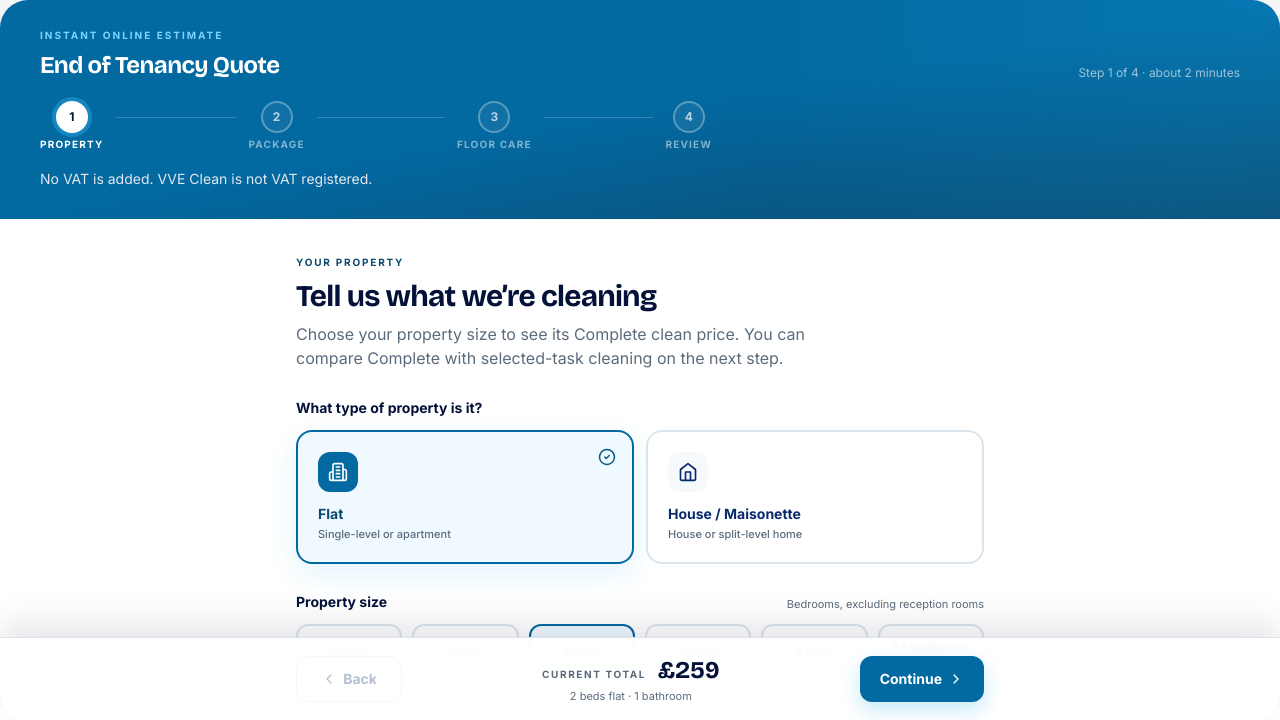
Test: EotQuoteWizard — Step 2: Choose your cleaning package › shows both cards with correct, distinct prices
Click the button "Continue": [922, 679] box left=860, top=656, right=984, bottom=702
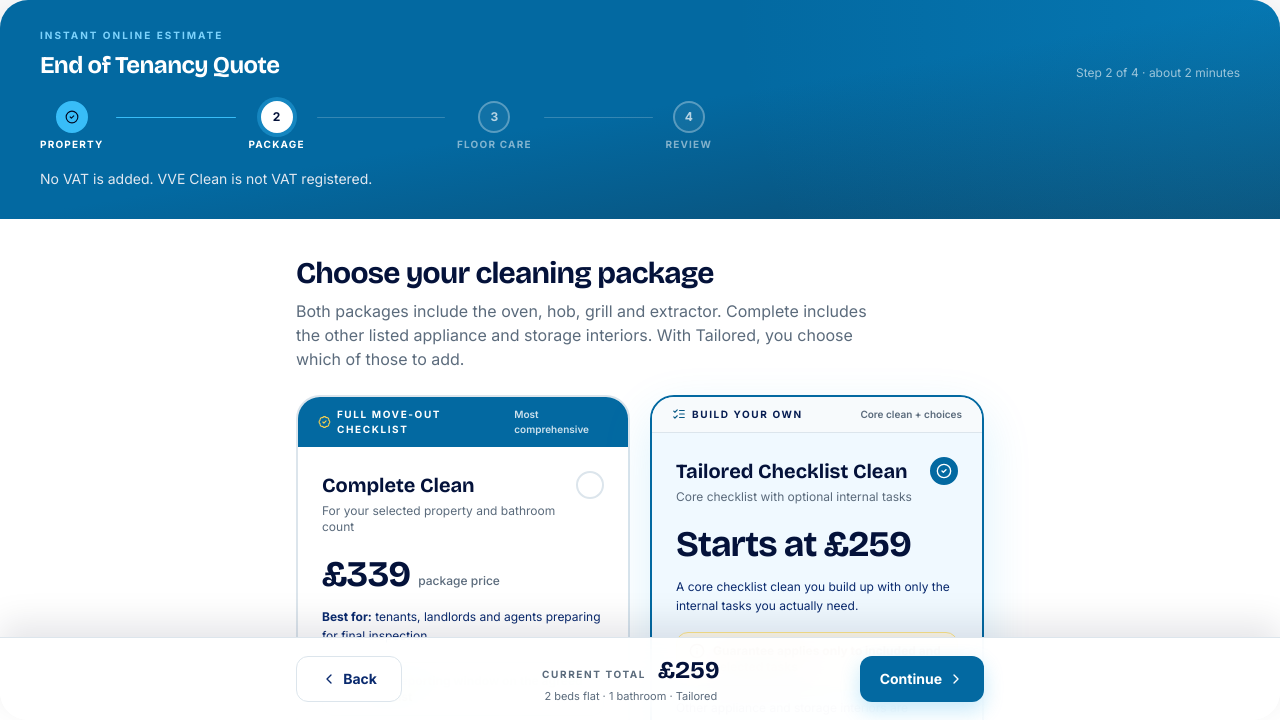
Expected: the text "Tailored Checklist Clean" is shown, left=676, top=457, right=912, bottom=485
Expected: the text with test id "complete-price" reads "£339", left=322, top=553, right=410, bottom=596
Expected: the text with test id "tailored-price" shows "£259", left=824, top=523, right=911, bottom=566
